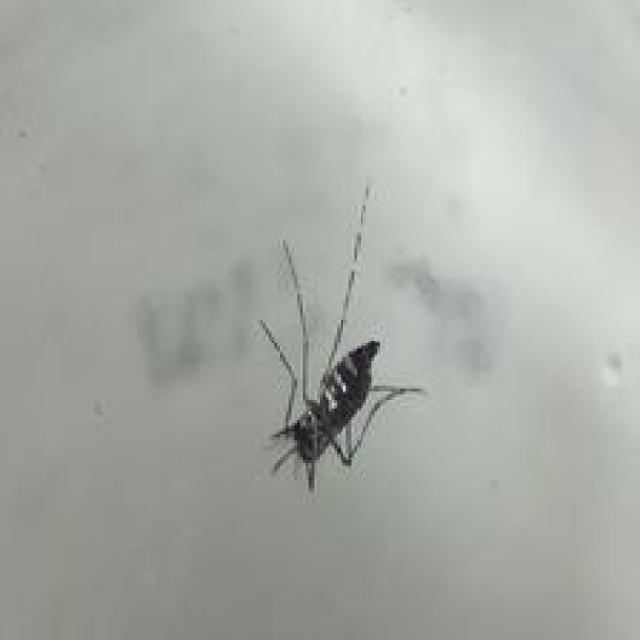Aedes albopictus: (256, 178, 424, 493)
